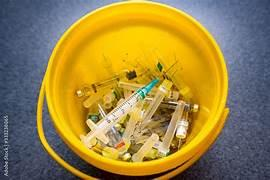Syringe: (85, 79, 158, 143), (158, 101, 185, 155), (143, 79, 172, 121), (132, 134, 158, 161), (118, 81, 143, 90)
